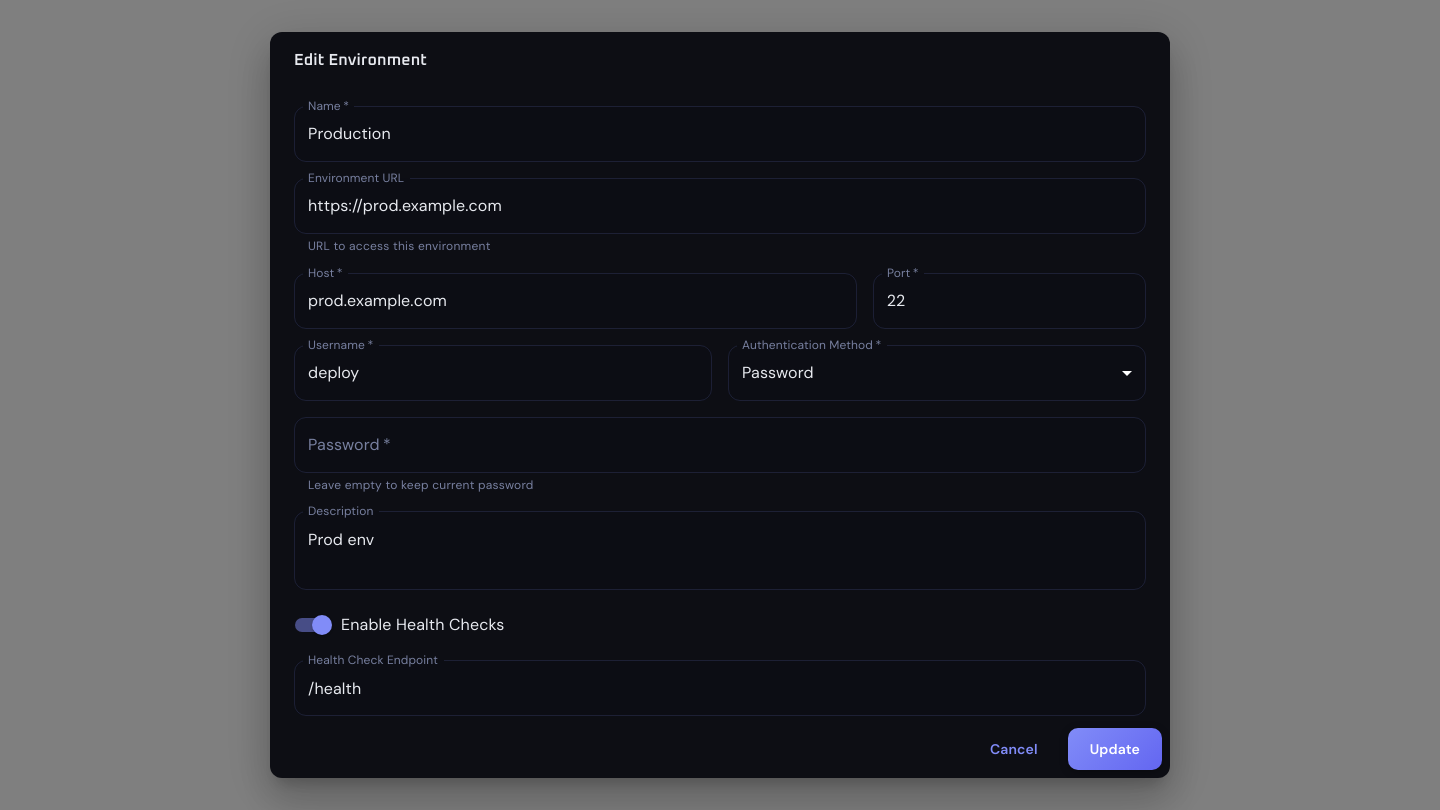
Scenario: EditEnvironmentDialog › shows validation error when name is cleared and submitted
The width and height of the screenshot is (1440, 810).
Clear the field labelled "Name *" at (720, 134), box [294, 106, 1146, 162]
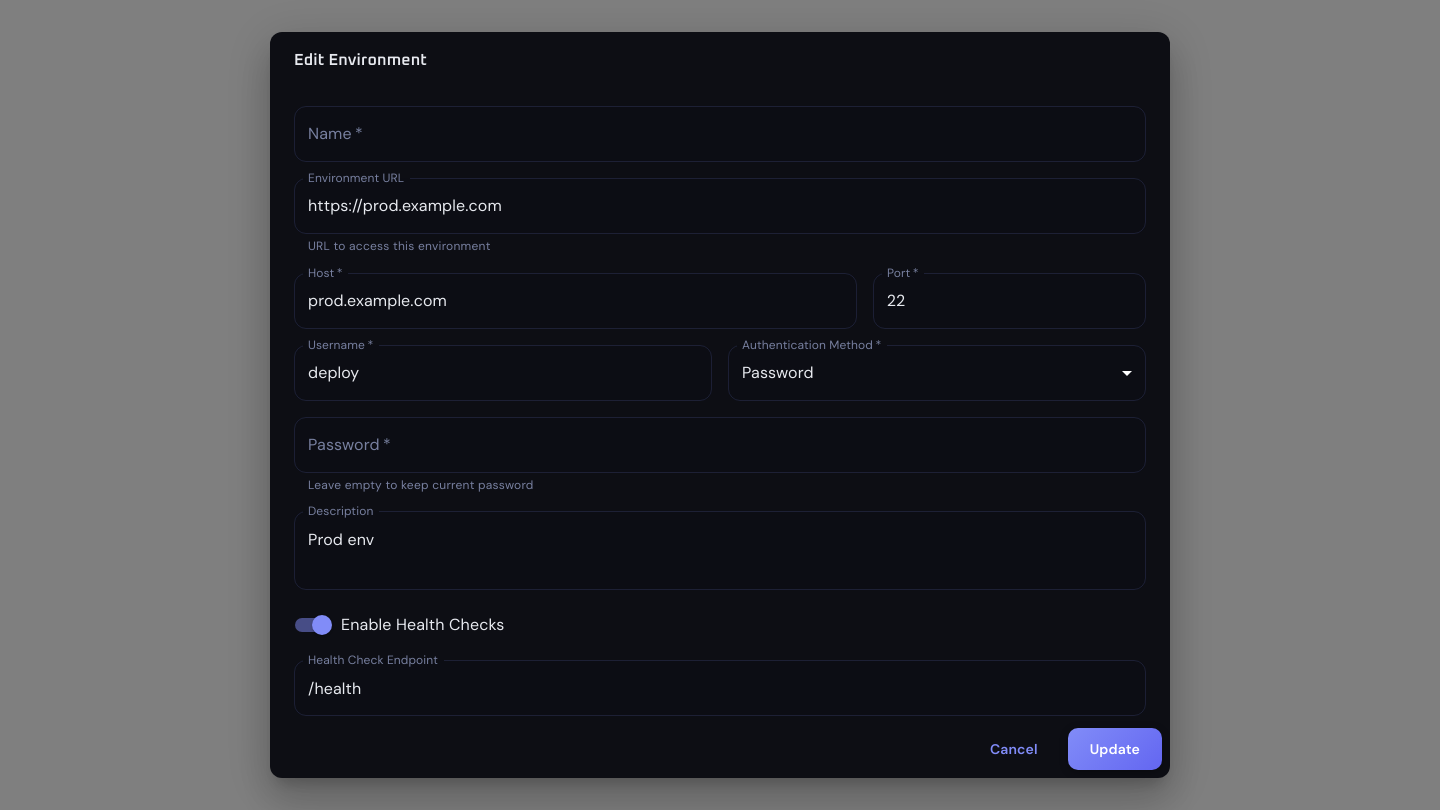
Click the button "Update".
click(1115, 749)  # box [1068, 728, 1162, 770]
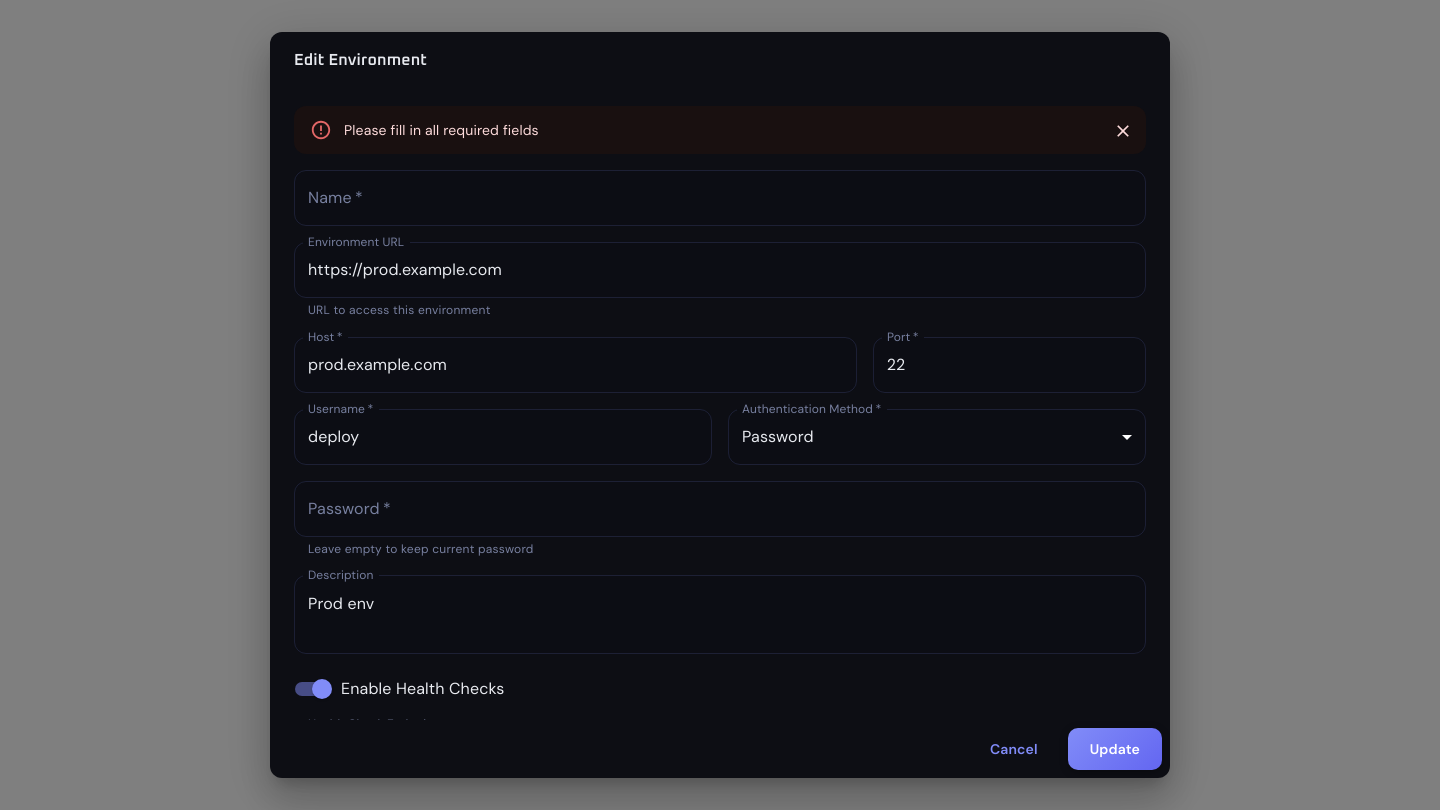
Expected: the text "Please fill in all required fields" is shown, [344, 121, 539, 139]
